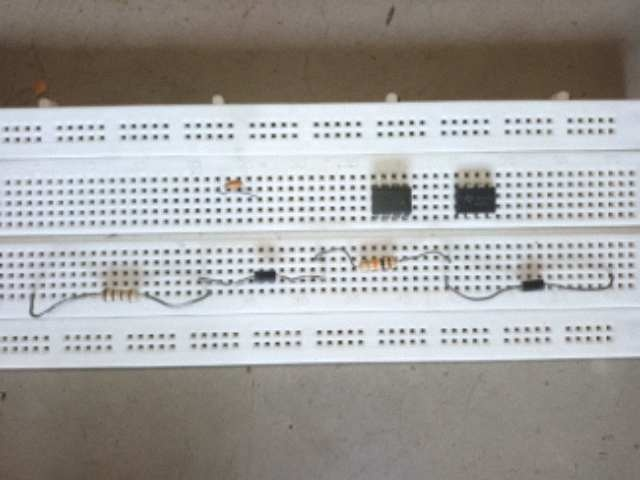capacitor: (29, 78, 49, 100), (223, 180, 244, 191)
resistor: (99, 288, 145, 304), (359, 256, 398, 274)
